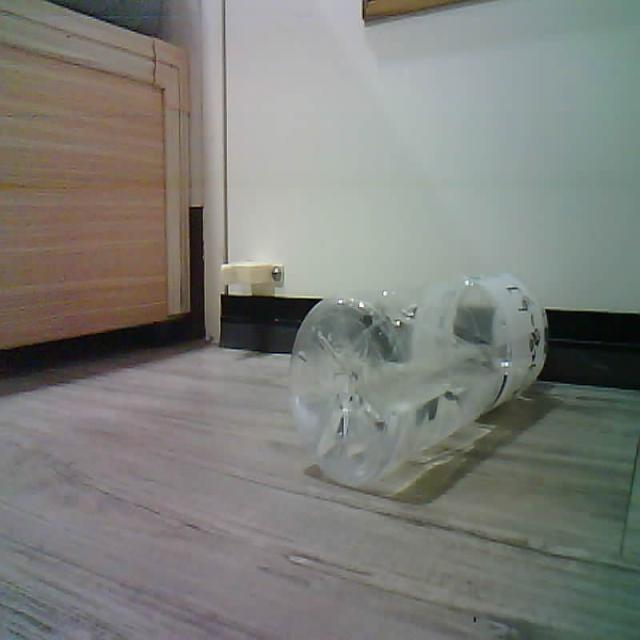bottle: (290, 274, 547, 486)
